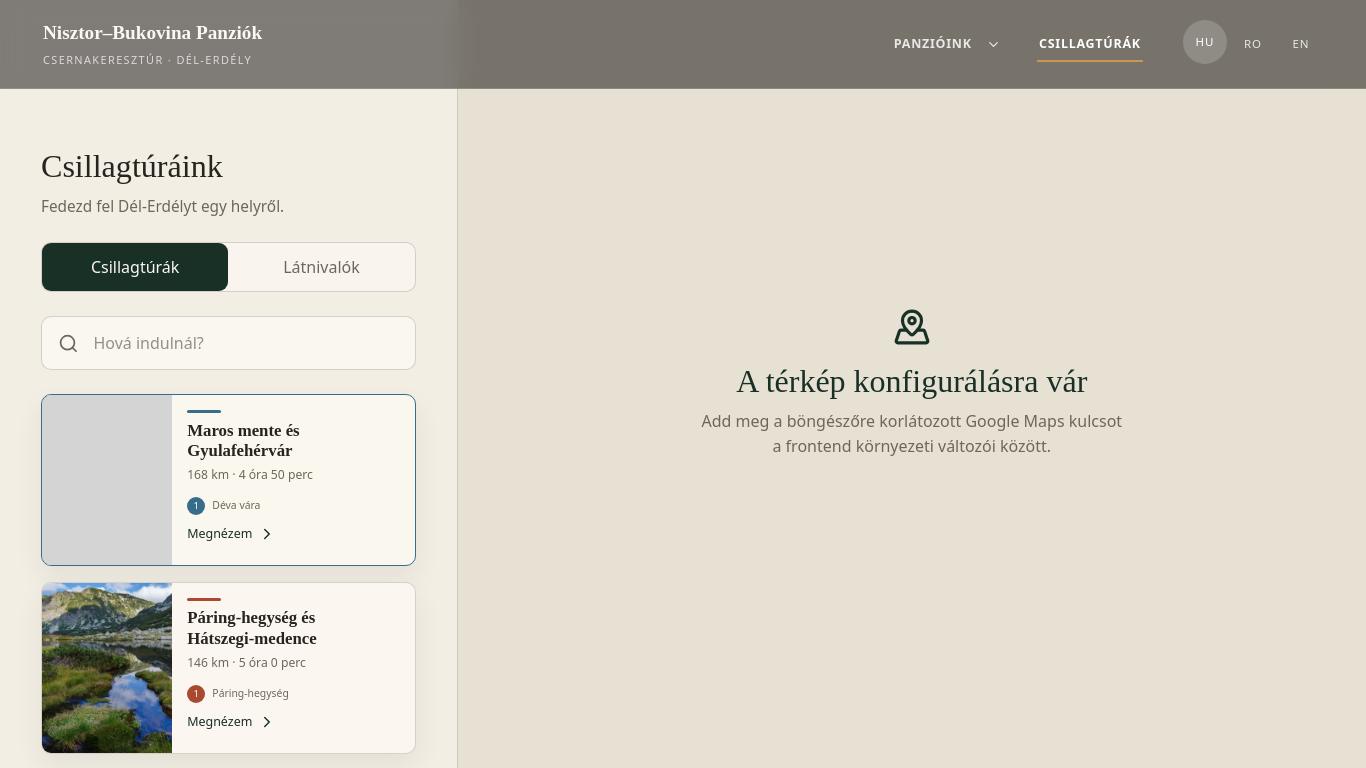
Test: TourismMapPage › uses the Csernakeresztúri tájház as the initial attraction when available
Click the tab "Látnivalók" at (321, 267), box [228,243,415,291]
(page scrolled)
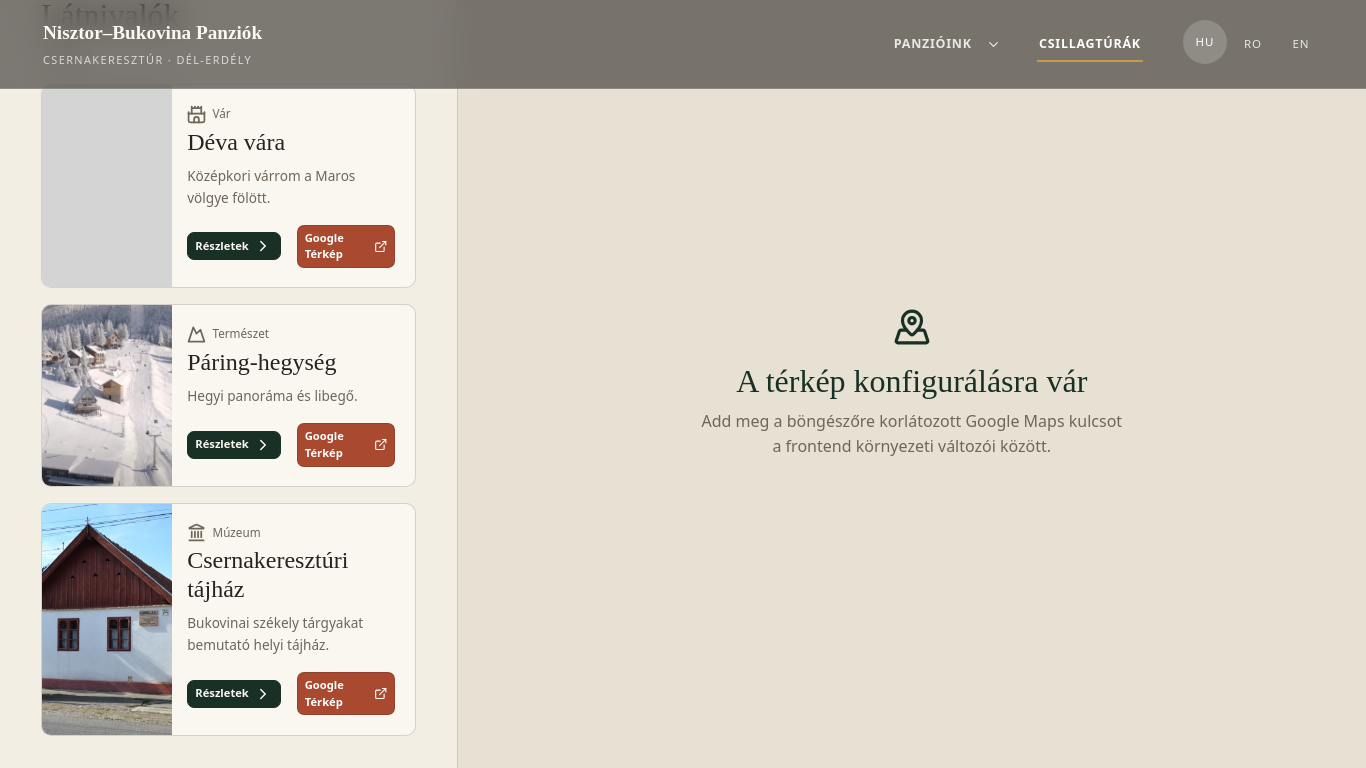
Now the element with class "selected" shows "Csernakeresztúri tájház", box [187,547,348,602]
